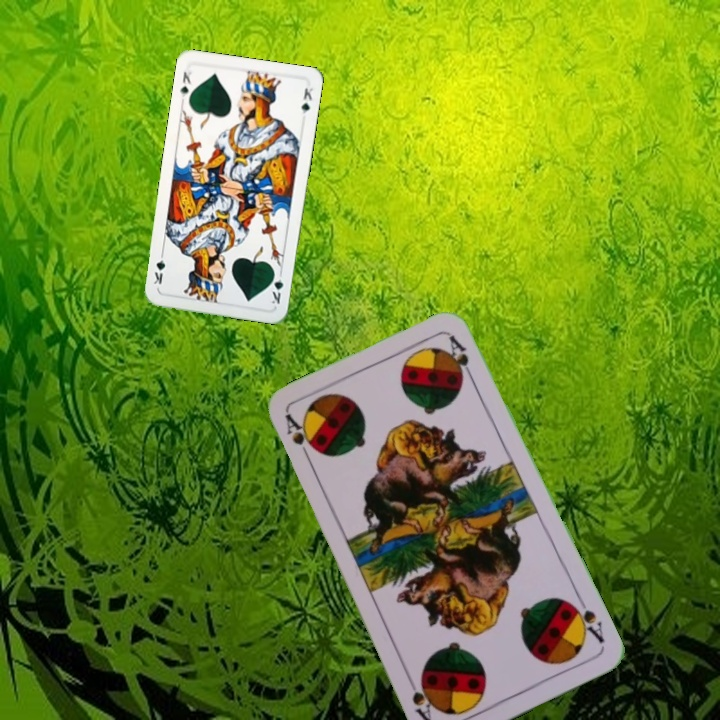GK: (267, 267, 286, 307), (176, 67, 194, 104)
SA: (565, 593, 607, 646), (280, 410, 317, 466)
